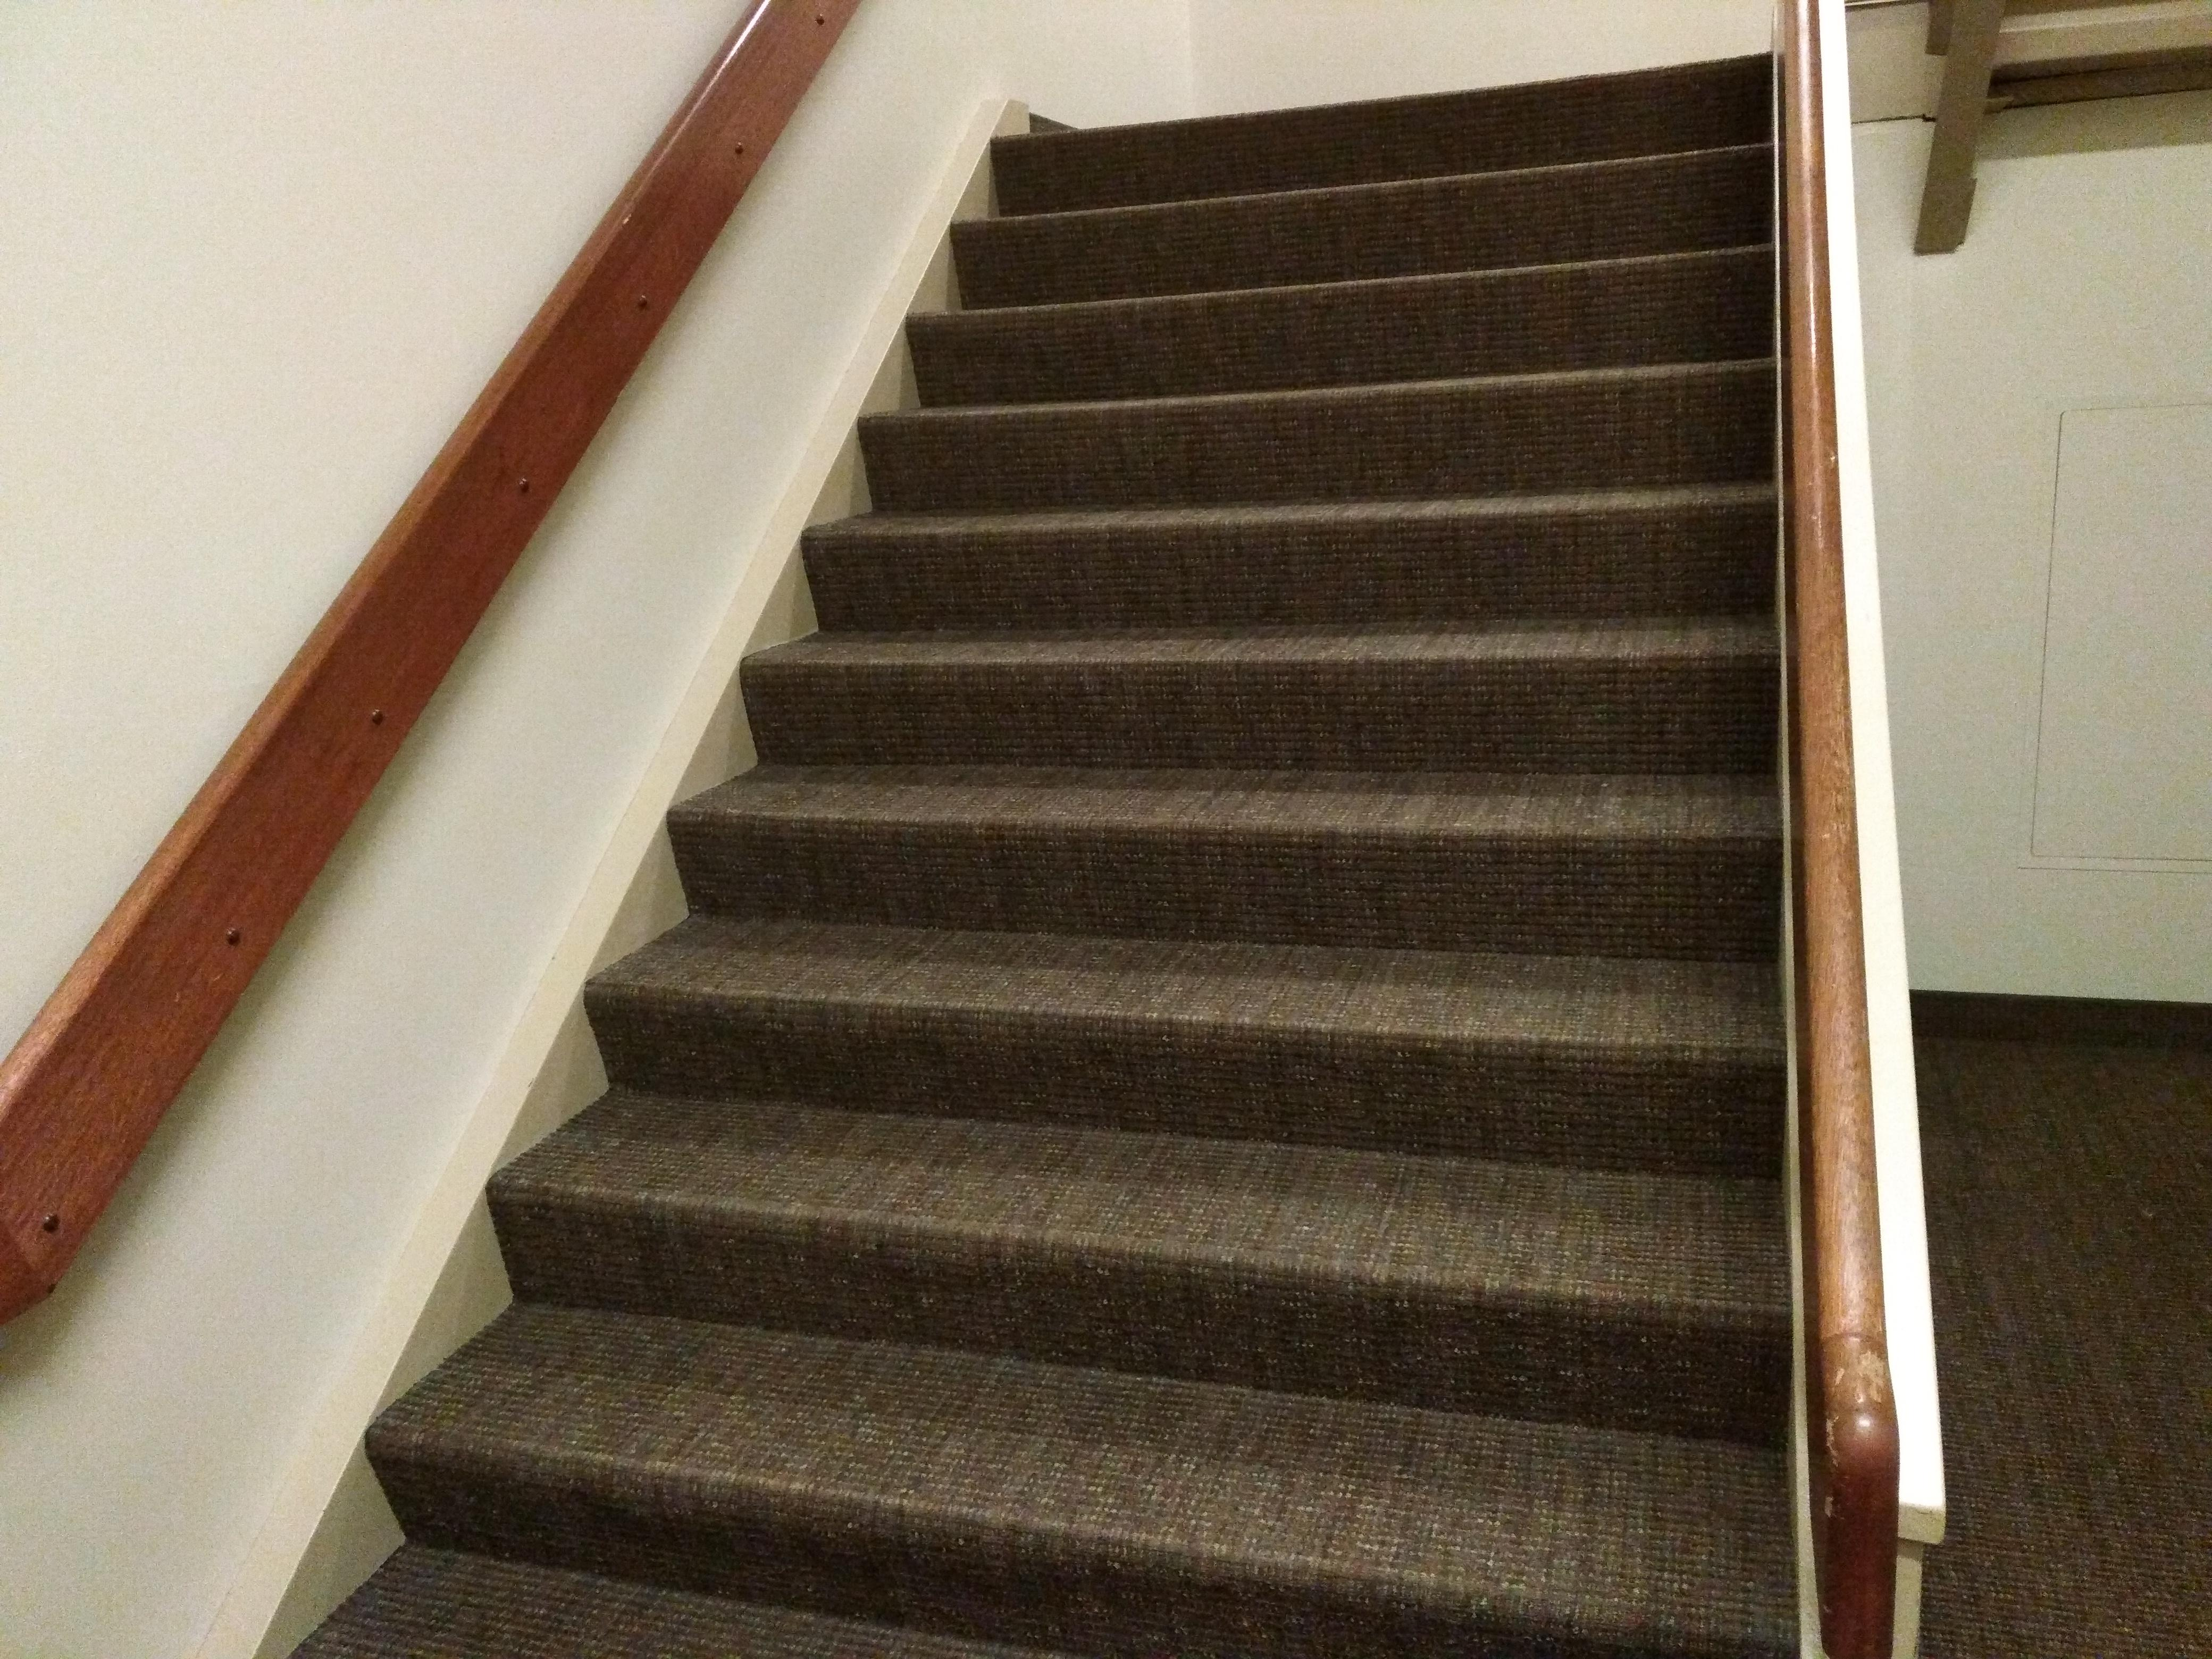stairs_up: (352, 71, 1817, 1628)
